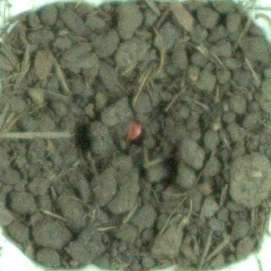chilli seed: (119, 114, 146, 143)
